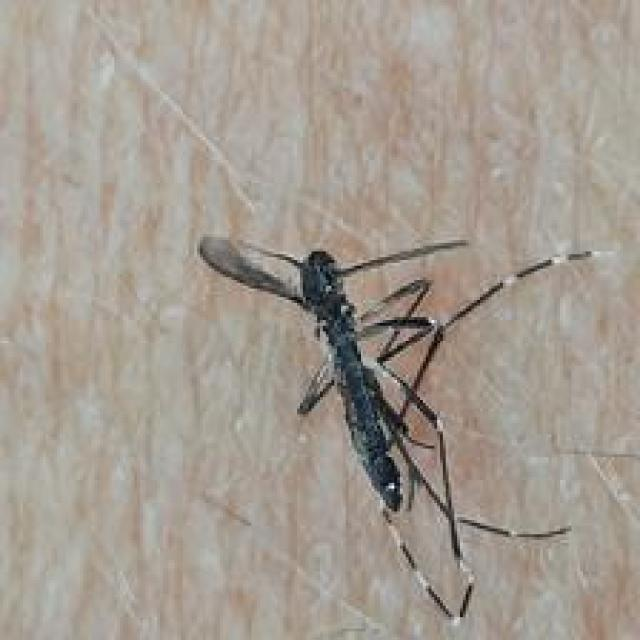Aedes albopictus: (196, 231, 610, 626)
